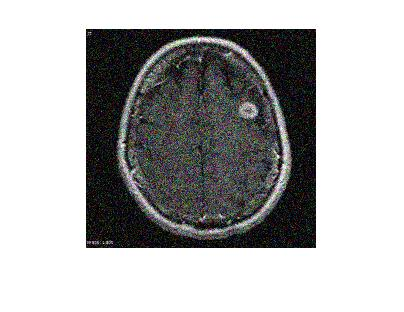Brain_Cancer: (233, 95, 263, 125)
